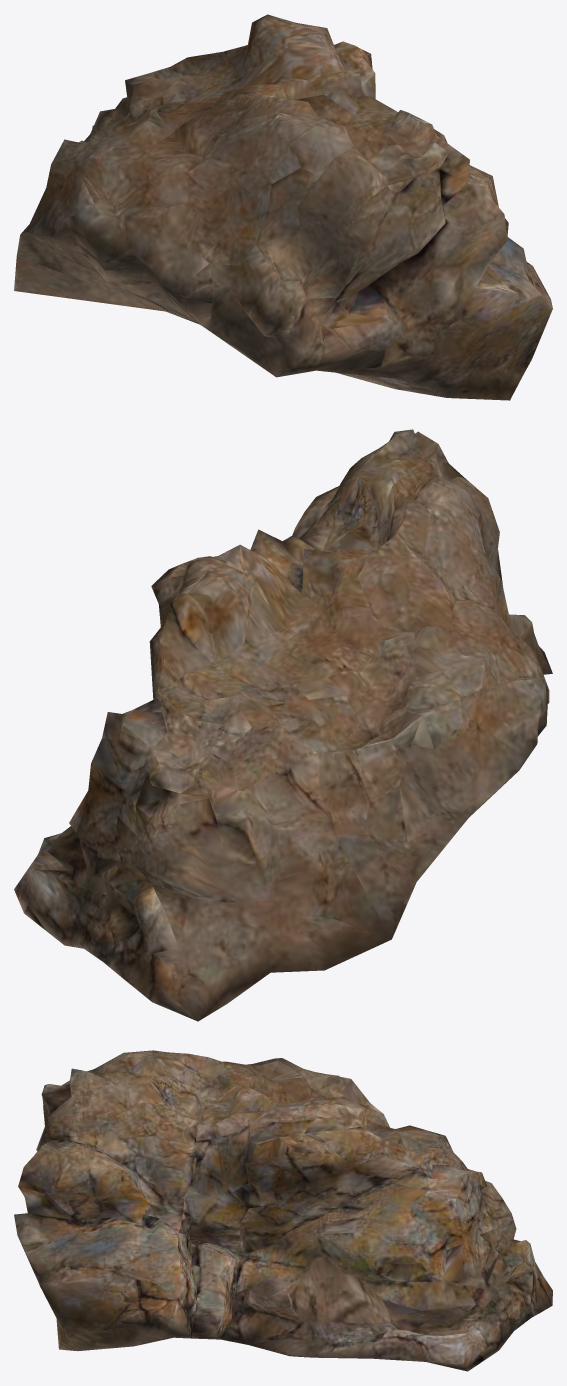
The model's file is boulder_01.glb.
The picture shows the model from 3 angles, top to bottom: view 1: azimuth 30°, elevation 25°; view 2: azimuth 150°, elevation 25°; view 3: azimuth 270°, elevation 25°; orthographic projection. The views are drawn at different scales.
Visible parts, largest first — view 1: Prop; view 2: Prop; view 3: Prop.
Boxes of the visible parts, bbox=[...] form: Prop: bbox=[14, 14, 552, 400]; Prop: bbox=[14, 429, 552, 1021]; Prop: bbox=[14, 1050, 552, 1371].
Bounding box in the file's own units: 1.27 × 1 × 1.81.
Materials: 1 (1 with a texture image).
